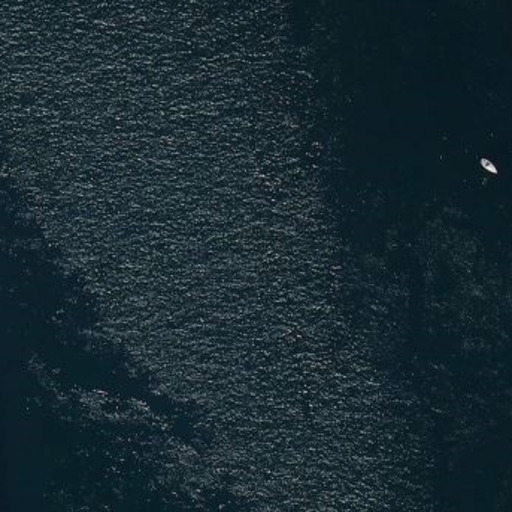ship: (478, 156, 500, 178)
